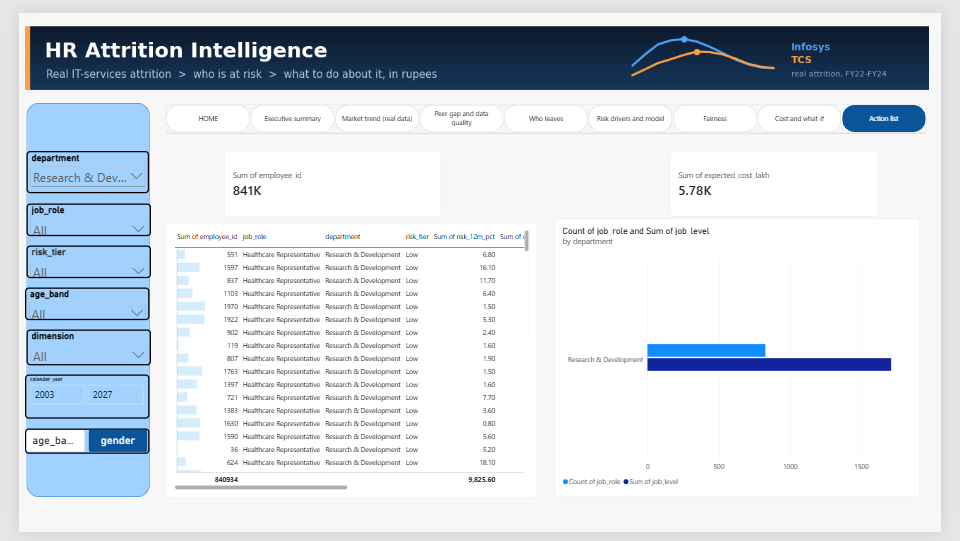

What the dashboard file says about the page in this screenshot:
{"tool":"powerbi","page":{"name":"Action list","canvas":[1920,1080],"ordinal":8},"visuals":[{"type":"image","box":[12.2,16.7,1883.3,156.7],"z":0},{"type":"actionButton","box":[43.1,334.2,62,42.1],"z":0,"group":"g1"},{"type":"shape","box":[15.4,188.5,256.8,820.8],"z":1000,"group":"g1"},{"type":"cardVisual","fields":{"Data":["Sum(mart employee_action_list.employee_id)"]},"box":[427.1,286.3,450,137.5],"z":1000},{"type":"cardVisual","fields":{"Data":["Sum(mart employee_action_list.expected_cost_lakh)"]},"box":[1355.2,286.3,435,137.5],"z":2000},{"type":"slicer","fields":{"Values":["mart employee_action_list.job_role"]},"box":[14.8,397,259.6,67.8],"z":3000,"group":"g1"},{"type":"tableEx","fields":{"Values":["Sum(mart employee_action_list.employee_id)","mart employee_action_list.job_role","mart employee_action_list.department","mart employee_action_list.risk_tier","Sum(mart employee_action_list.risk_12m_pct)","Sum(mart employee_action_list.expected_cost_lakh)","mart employee_action_list.top_reasons"]},"box":[307.8,436.6,773,572.6],"z":3000},{"type":"pageNavigator","box":[307.8,190.9,1584.2,59.6],"z":4000},{"type":"slicer","fields":{"Values":["dim_risk_tier.risk_tier"]},"box":[15.5,484.8,259.6,68],"z":4000,"group":"g1"},{"type":"clusteredBarChart","fields":{"Category":["mart employee_action_list.department"],"Y":["CountNonNull(mart employee_action_list.job_role)","Sum(mart employee_action_list.job_level)"]},"box":[1116.6,429.5,761.1,579.8],"z":5000},{"type":"group","id":"g1","title":"Group 2","box":[13,188.5,262.7,820.8],"z":6000},{"type":"slicer","fields":{"Values":["staging hr_employee.age_band"]},"box":[14.2,572.8,259.6,67.8],"z":6000,"group":"g1"},{"type":"slicer","fields":{"Values":["mart hr_attrition_by_segment.dimension"]},"box":[16.1,660.6,259.6,74.4],"z":7000,"group":"g1"},{"type":"slicer","fields":{"Values":["mart employee_action_list.department"]},"box":[16.5,289.9,255.3,88.3],"z":7500,"group":"g1"},{"type":"slicer","fields":{"Values":["mart dim_quarter.calendar_year"]},"box":[13,755.1,259.6,91.9],"z":8000,"group":"g1"},{"type":"advancedSlicerVisual","fields":{"Values":["fairness_by_group.dimension"]},"box":[13.6,867,259.6,52.5],"z":9500,"group":"g1"}]}

Visuals, with their boxes on the page's 1920x1080 design canvas (x1, y1, x2, y2). These are canvas units, not pixel positions in the 960x541 screenshot, which may show the page scaled, cropped or inside an application window:
image: left=12, top=17, right=1896, bottom=173
actionButton: left=43, top=334, right=105, bottom=376
shape: left=15, top=188, right=272, bottom=1009
cardVisual - Sum(mart employee_action_list.employee_id): left=427, top=286, right=877, bottom=424
cardVisual - Sum(mart employee_action_list.expected_cost_lakh): left=1355, top=286, right=1790, bottom=424
slicer - mart employee_action_list.job_role: left=15, top=397, right=274, bottom=465
tableEx - Sum(mart employee_action_list.employee_id) x mart employee_action_list.job_role: left=308, top=437, right=1081, bottom=1009
pageNavigator: left=308, top=191, right=1892, bottom=250
slicer - dim_risk_tier.risk_tier: left=16, top=485, right=275, bottom=553
clusteredBarChart - mart employee_action_list.department x CountNonNull(mart employee_action_list.job_role): left=1117, top=430, right=1878, bottom=1009
"Group 2" group: left=13, top=188, right=276, bottom=1009
slicer - staging hr_employee.age_band: left=14, top=573, right=274, bottom=641
slicer - mart hr_attrition_by_segment.dimension: left=16, top=661, right=276, bottom=735
slicer - mart employee_action_list.department: left=16, top=290, right=272, bottom=378
slicer - mart dim_quarter.calendar_year: left=13, top=755, right=273, bottom=847
advancedSlicerVisual - fairness_by_group.dimension: left=14, top=867, right=273, bottom=920
